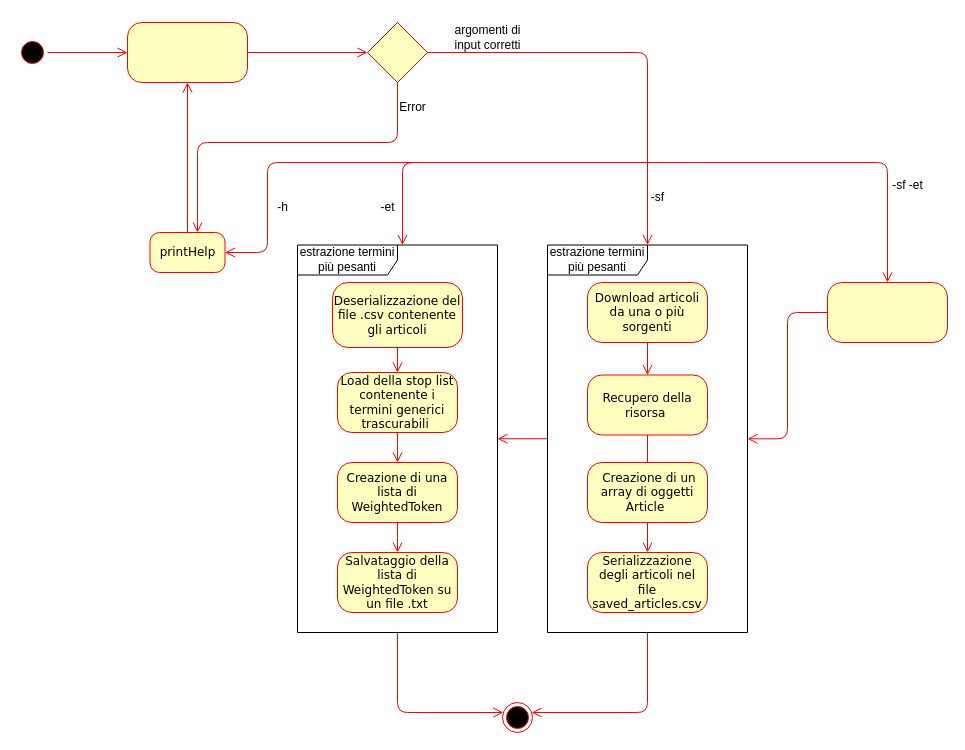
Some shapes in this 965 by 750 pixel diagram are drawn without their labels. Each missing label, with the centre of its shape:
"Download articoli e estrazione termini" belongs at (x=887, y=312).
"Utente sceglie una funzionalità del sistema tramite cli" belongs at (x=187, y=52).
